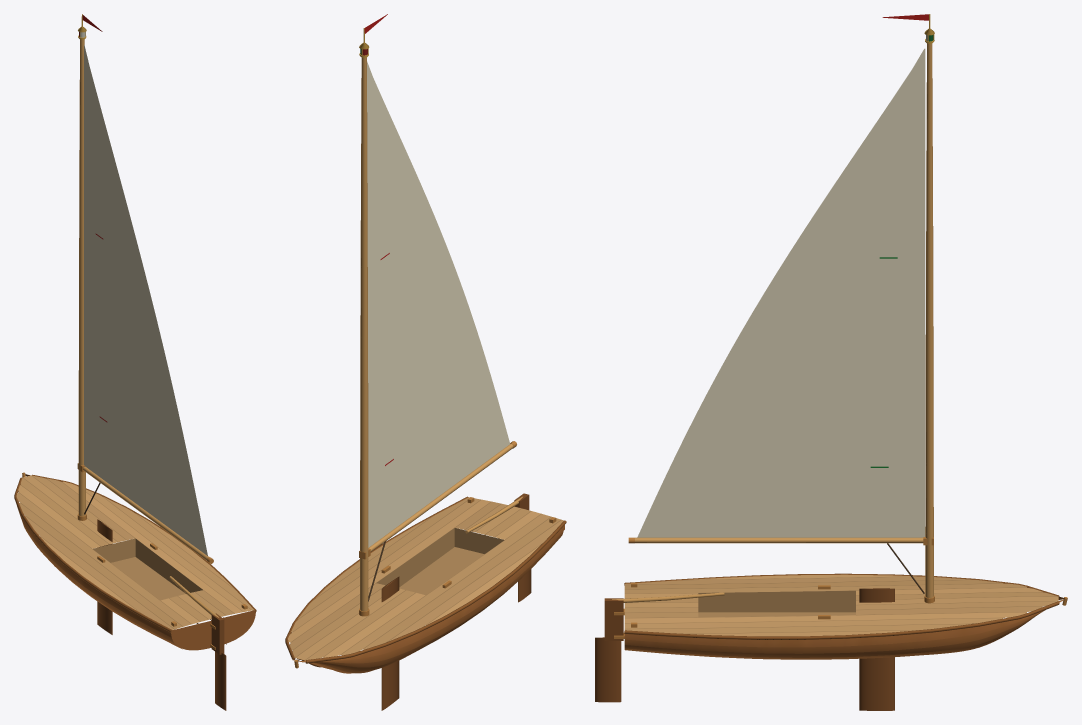
Rendered from jolly-boat.glb.
3 renders of one model, left to right at view 1: azimuth 30°, elevation 25°; view 2: azimuth 150°, elevation 25°; view 3: azimuth 270°, elevation 25°, orthographic. The views are drawn at different scales.
Parts seen in each view (by area): view 1: sail, hull, mast, rudder, boom, daggerboard; view 2: sail, hull, mast, boom, daggerboard, rudder; view 3: sail, hull, mast, rudder, daggerboard, boom.
Part boxes in pixels (x1,y1,x2,y2): sail: (84, 45, 207, 555); hull: (14, 472, 256, 650); mast: (78, 39, 85, 516); rudder: (211, 613, 226, 710); boom: (77, 463, 213, 563); daggerboard: (97, 519, 112, 634); sail: (367, 61, 509, 547); hull: (285, 496, 566, 673); mast: (360, 57, 368, 611); boom: (359, 441, 516, 559); daggerboard: (381, 576, 399, 710); rudder: (514, 493, 531, 602); sail: (637, 48, 925, 537); hull: (614, 573, 1067, 659); mast: (925, 43, 933, 597); rudder: (595, 598, 623, 702); daggerboard: (859, 588, 894, 710); boom: (628, 537, 933, 545).
Size of the model in its own units: 1.43 by 7.3 by 4.49.
